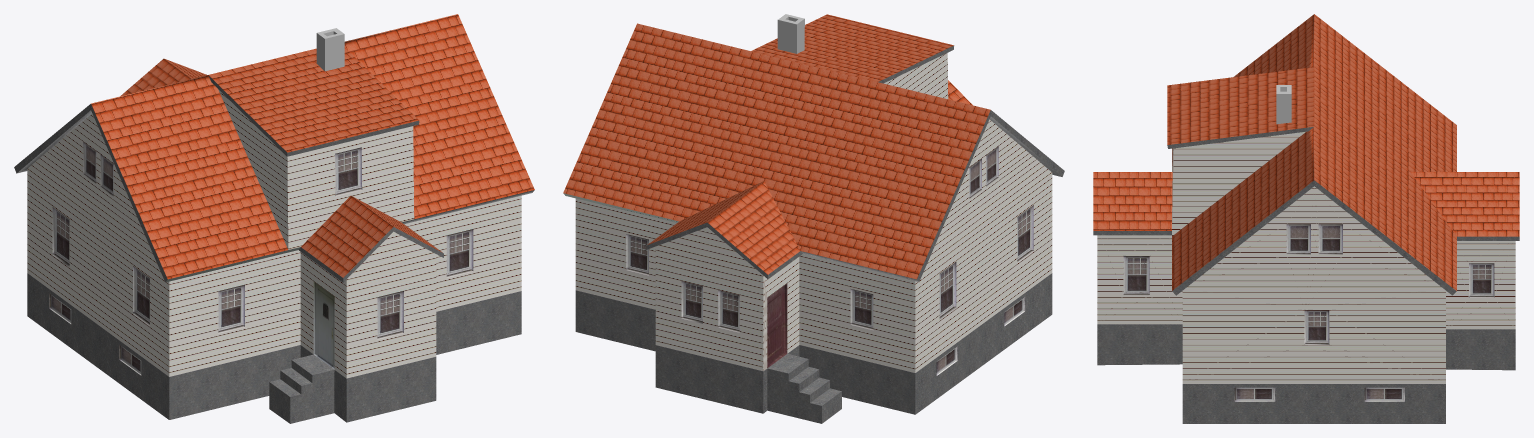
File: house_3ds.fbx
The picture shows the model from 3 angles, left to right: view 1: azimuth 30°, elevation 25°; view 2: azimuth 150°, elevation 25°; view 3: azimuth 270°, elevation 25°; orthographic projection. The views are drawn at different scales.
Parts seen in each view (by area): view 1: house2; view 2: house2; view 3: house2.
Boxes of the visible parts, left/top/right/bottom form: house2: left=14, top=14, right=534, bottom=423; house2: left=563, top=14, right=1064, bottom=423; house2: left=1093, top=14, right=1519, bottom=423.
Size of the model in its own units: 451 by 346 by 490.
